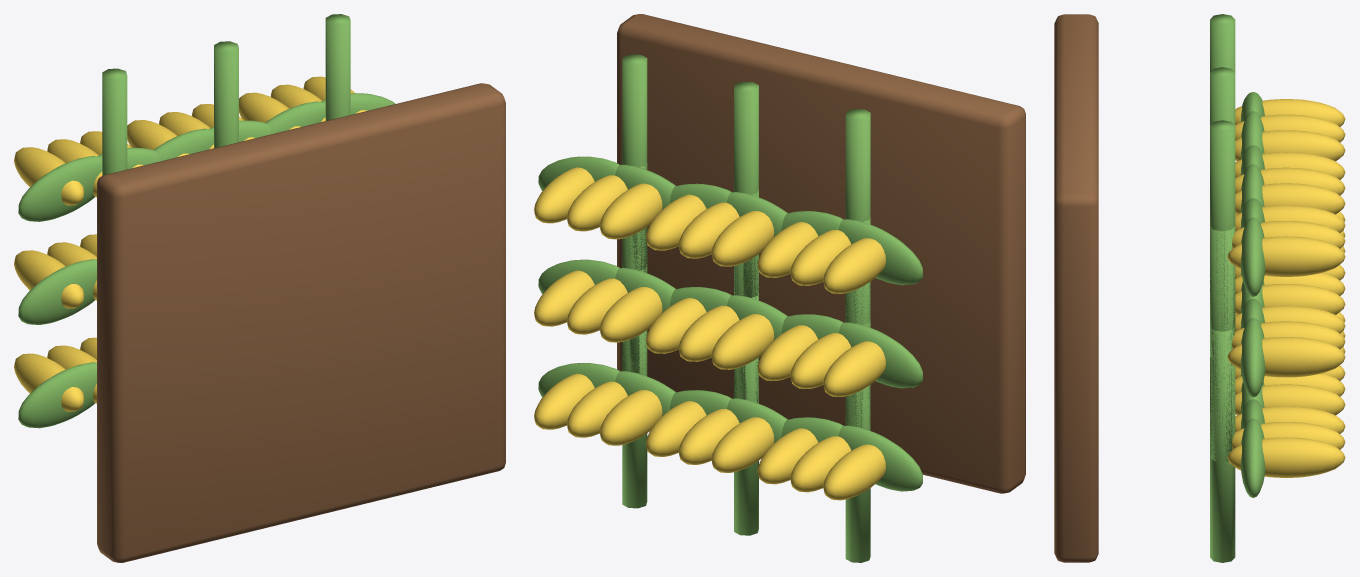
File: corn_ripe.glb
3 renders of one model, left to right at view 1: azimuth 30°, elevation 25°; view 2: azimuth 150°, elevation 25°; view 3: azimuth 270°, elevation 25°, orthographic. The views are drawn at different scales.
Visible parts, largest first — view 1: Soil, Leaf.004, Leaf, Leaf.002, Stem.008, Stem.002, Stem.005, Cob.006, Cob, Cob.003, Leaf.016, Leaf.010 (+8 smaller); view 2: Soil, Stem.008, Stem.005, Stem.002, Stem, Stem.003, Stem.006, Cob, Cob.006, Cob.003, Cob.012, Cob.018 (+43 smaller); view 3: Soil, Stem.006, Stem.007, Stem.008, Cob.020, Cob.026, Cob.023, Cob.008, Cob.011, Cob.017, Cob.014, Leaf.015 (+23 smaller).
Part boxes in pixels (box(x1,y1,x2,y2)): Soil: box(97, 83, 505, 562); Leaf.004: box(18, 156, 102, 221); Leaf: box(18, 362, 96, 428); Leaf.002: box(18, 259, 96, 324); Stem.008: box(325, 14, 350, 120); Stem.002: box(102, 68, 127, 175); Stem.005: box(214, 41, 238, 148); Cob.006: box(14, 147, 84, 205); Cob: box(14, 353, 84, 411); Cob.003: box(14, 250, 84, 308); Leaf.016: box(265, 101, 325, 134); Leaf.010: box(154, 128, 213, 161); Soil: box(617, 14, 1025, 493); Stem.008: box(622, 54, 647, 272); Stem.005: box(734, 81, 758, 298); Stem.002: box(845, 109, 870, 323); Stem: box(845, 320, 870, 562); Stem.003: box(734, 293, 758, 535); Stem.006: box(622, 265, 647, 508); Cob: box(823, 444, 885, 500); Cob.006: box(823, 238, 885, 293); Cob.003: box(823, 341, 885, 396); Cob.012: box(711, 314, 774, 369); Cob.018: box(599, 390, 662, 445); Soil: box(1054, 14, 1098, 562); Stem.006: box(1210, 327, 1235, 562); Stem.007: box(1210, 226, 1235, 461); Stem.008: box(1210, 120, 1235, 357); Cob.020: box(1227, 437, 1345, 477); Cob.026: box(1227, 236, 1345, 276); Cob.023: box(1227, 337, 1345, 377); Cob.008: box(1235, 130, 1345, 160); Cob.011: box(1235, 384, 1345, 415); Cob.017: box(1235, 183, 1345, 214); Cob.014: box(1235, 284, 1345, 314); Leaf.015: box(1240, 317, 1265, 397).
Bounding box in the file's own units: 1.2 × 1.29 × 0.7875.
